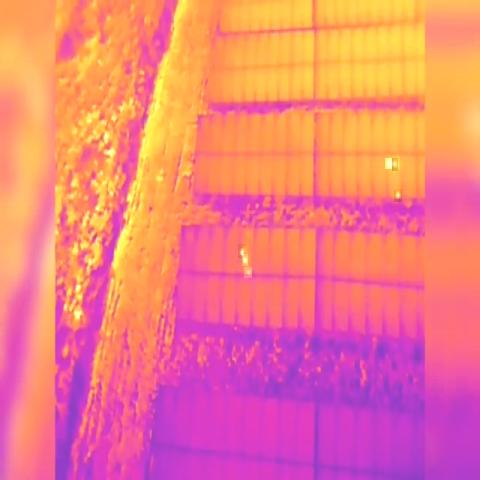fault: (238, 244, 246, 258), (394, 189, 402, 202), (244, 267, 252, 278), (392, 158, 398, 171), (386, 158, 393, 169), (242, 254, 248, 266)
